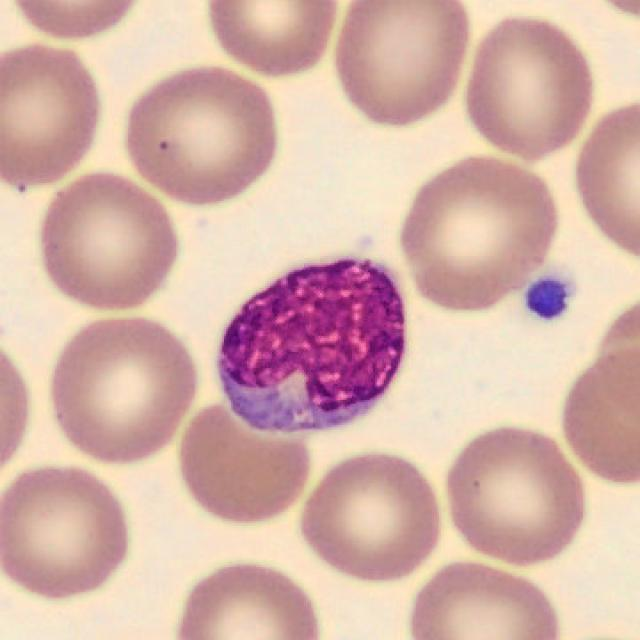Linfocito atipico: (219, 260, 404, 428)
